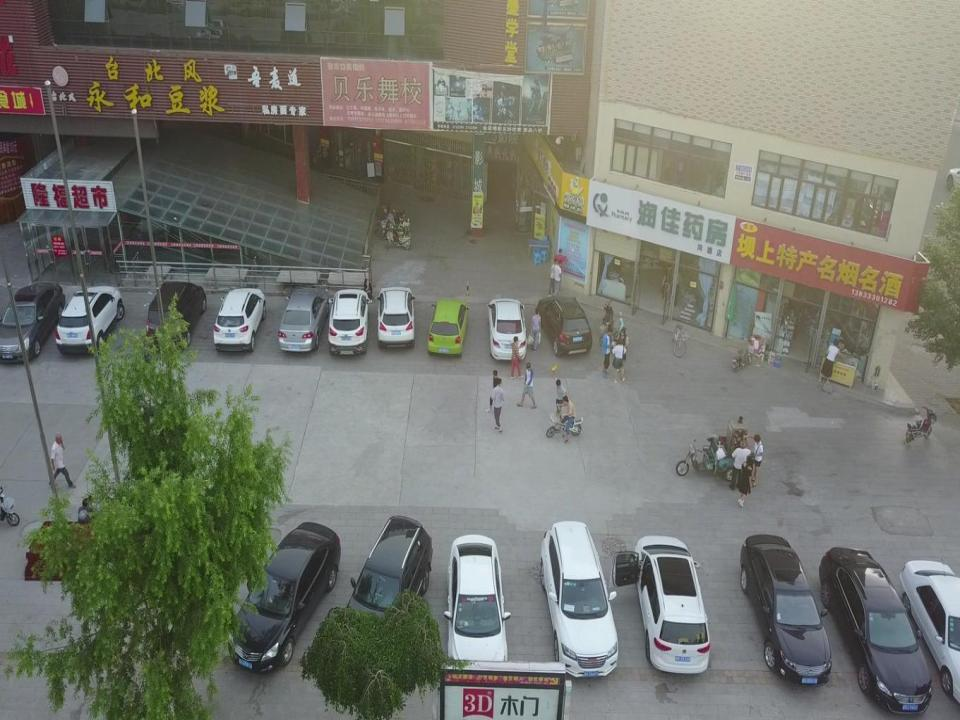car: (819, 545, 932, 715), (227, 521, 339, 677), (738, 535, 832, 688), (612, 534, 710, 674), (339, 516, 431, 658), (540, 520, 618, 678), (442, 533, 510, 686), (900, 559, 960, 707), (0, 282, 65, 364), (56, 284, 125, 355), (146, 280, 206, 348), (536, 296, 592, 358), (213, 287, 266, 352), (278, 289, 329, 353), (327, 288, 370, 355), (375, 286, 416, 349), (486, 298, 527, 360), (427, 299, 469, 358)
